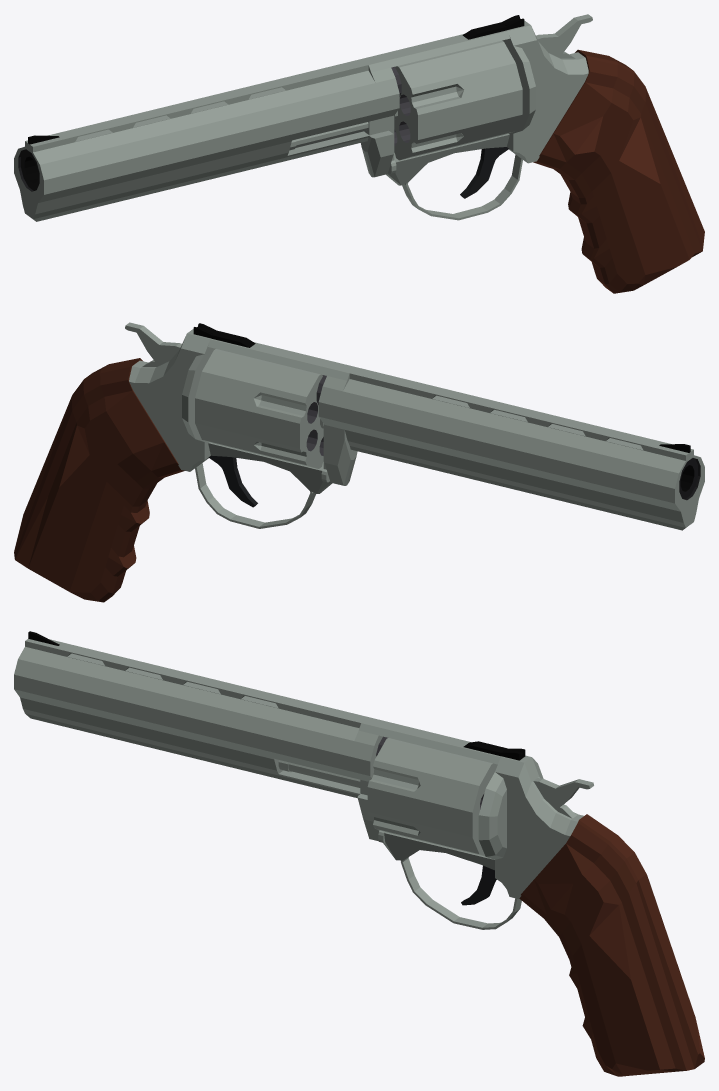
File: Revolver.gltf
The picture shows the model from 3 angles, top to bottom: view 1: azimuth 30°, elevation 25°; view 2: azimuth 150°, elevation 25°; view 3: azimuth 330°, elevation 25°; orthographic projection.
Parts seen in each view (by area): view 1: Revolver, Loading_Drum, Gate_08, Trigger_Guard_08; view 2: Revolver, Loading_Drum, Gate_08, Trigger_Guard_08; view 3: Revolver, Loading_Drum, Gate_08.
Boxes of the visible parts, x1,y1,x2,y2 form: Revolver: [14, 15, 704, 293]; Loading_Drum: [289, 40, 522, 173]; Gate_08: [536, 14, 592, 58]; Trigger_Guard_08: [460, 147, 508, 198]; Revolver: [14, 323, 704, 602]; Loading_Drum: [195, 349, 329, 482]; Gate_08: [125, 322, 181, 366]; Trigger_Guard_08: [208, 455, 257, 507]; Revolver: [14, 631, 704, 1076]; Loading_Drum: [278, 738, 497, 856]; Gate_08: [533, 778, 593, 818].
Size of the model in its own units: 0.3309 by 0.1395 by 0.044.
